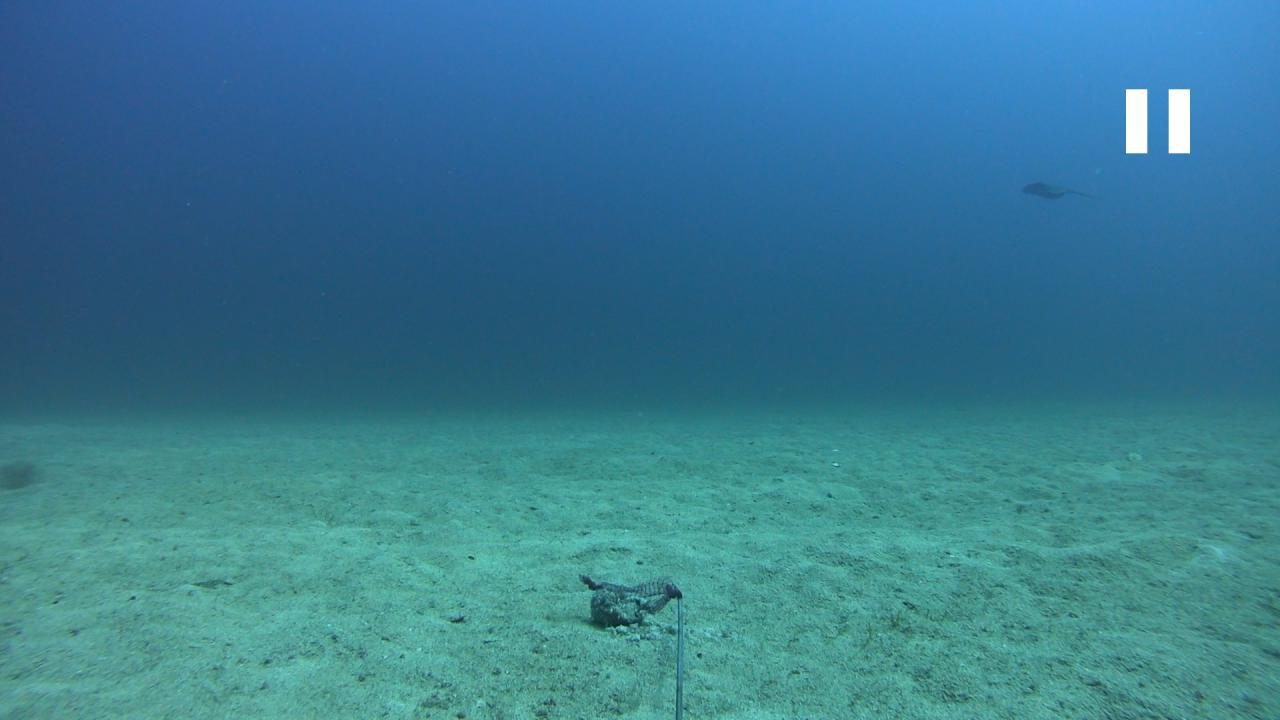dasyatis: (1020, 178, 1094, 203)
